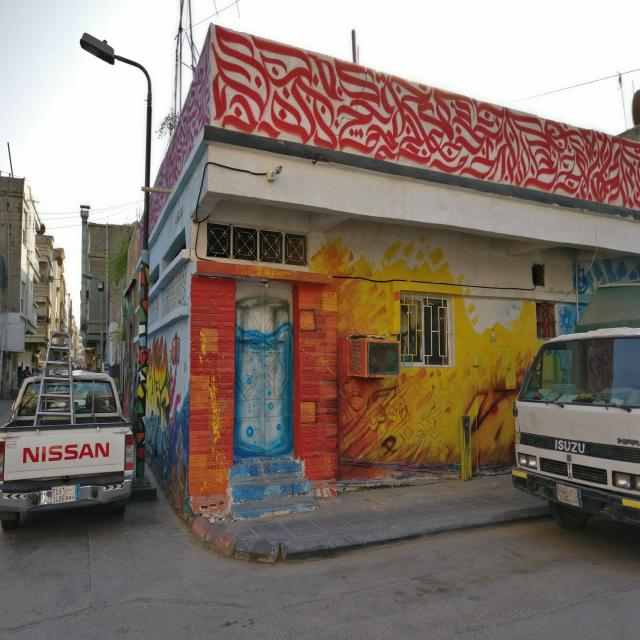license_plate: (556, 483, 582, 509), (51, 483, 81, 505)
